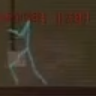hacks_2: (1, 11, 90, 85)
